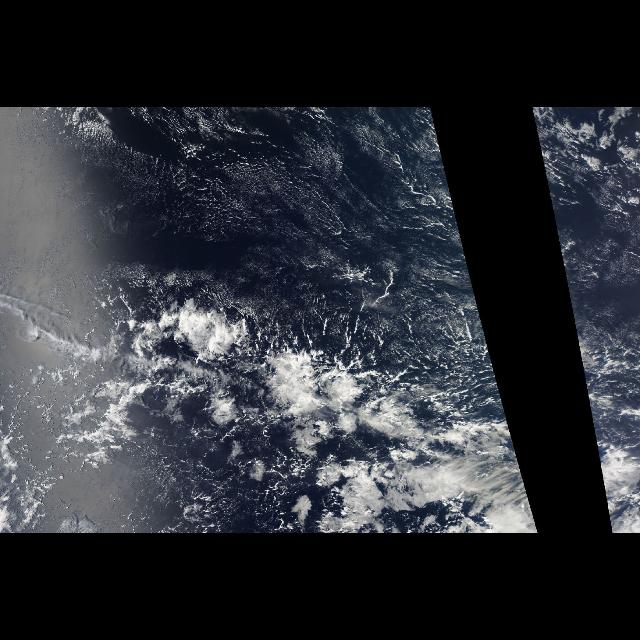Sugar: (52, 107, 466, 300)
